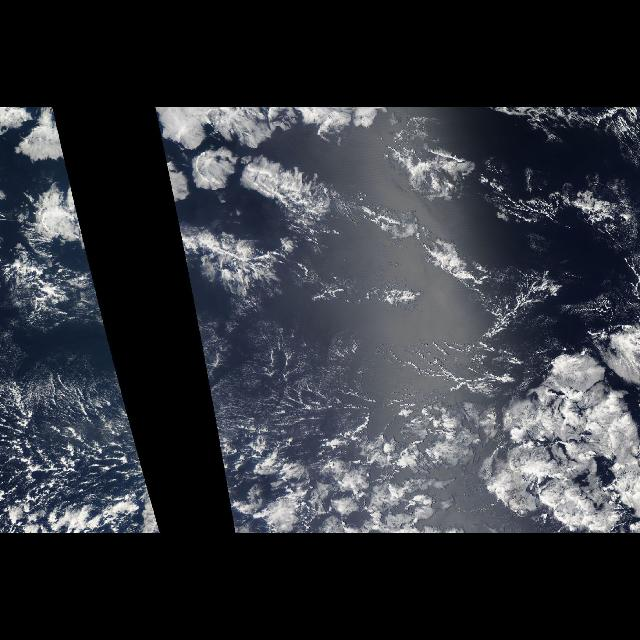Fish: (200, 348, 466, 530), (6, 348, 160, 530)
Flower: (154, 107, 640, 531), (4, 107, 110, 340)
Gravel: (9, 365, 155, 509)
